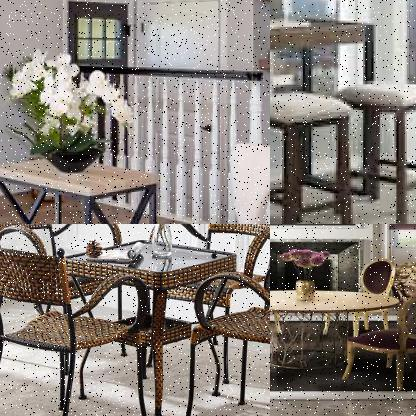table: (46, 236, 241, 415), (270, 13, 382, 223), (270, 286, 403, 385), (0, 154, 163, 223)
